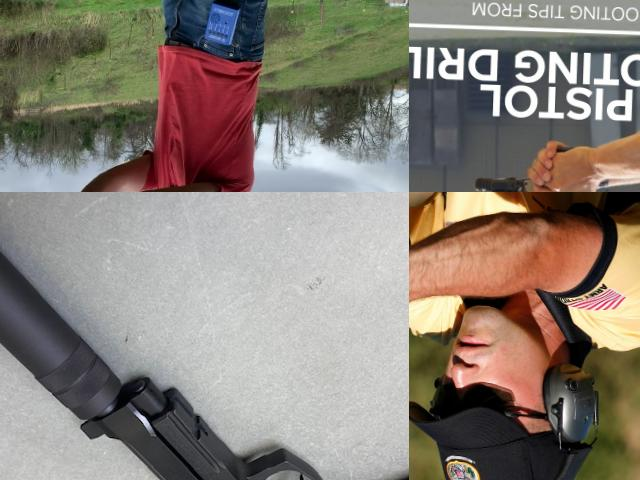handgun: (65, 364, 409, 480), (409, 243, 475, 379), (470, 139, 597, 192)
